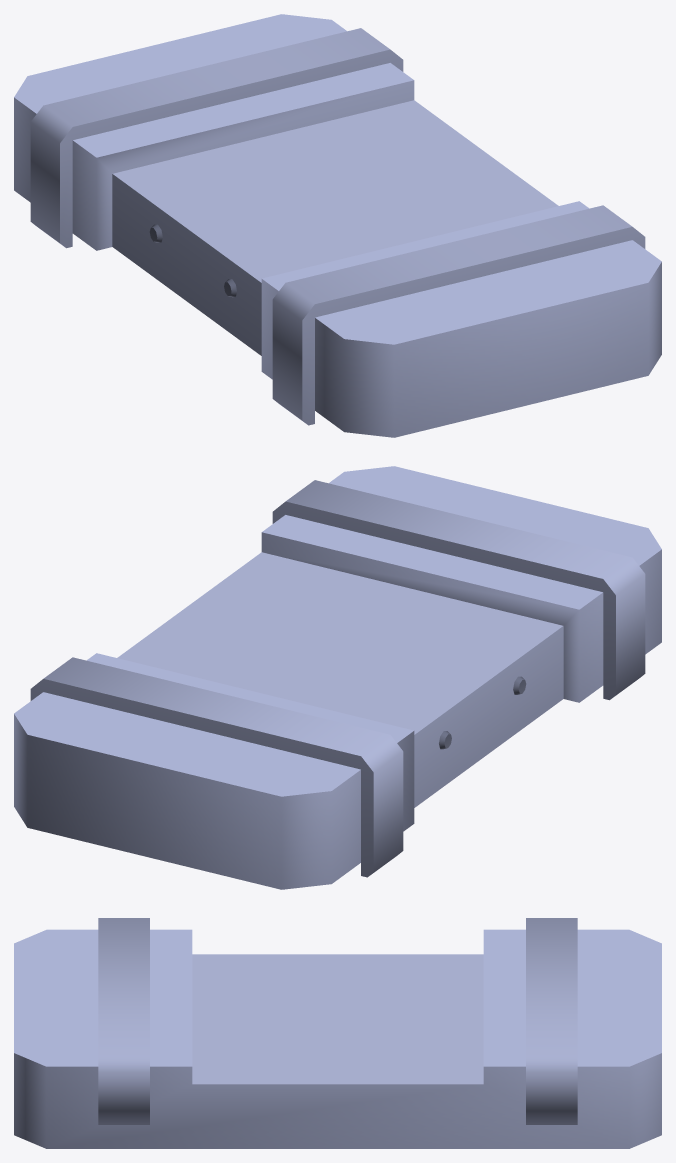
The picture shows the model from 3 angles, top to bottom: view 1: azimuth 30°, elevation 25°; view 2: azimuth 150°, elevation 25°; view 3: azimuth 270°, elevation 25°; orthographic projection. The views are drawn at different scales.
Visible parts, largest first — view 1: lid; view 2: lid; view 3: lid.
Part boxes in pixels (x1=…): lid: x1=14, y1=14, x2=661, y2=437; lid: x1=14, y1=466, x2=661, y2=889; lid: x1=14, y1=918, x2=661, y2=1148.
Size of the model in its own units: 0.486 by 0.162 by 0.9.
Materials: 1 (1 with a texture image).
